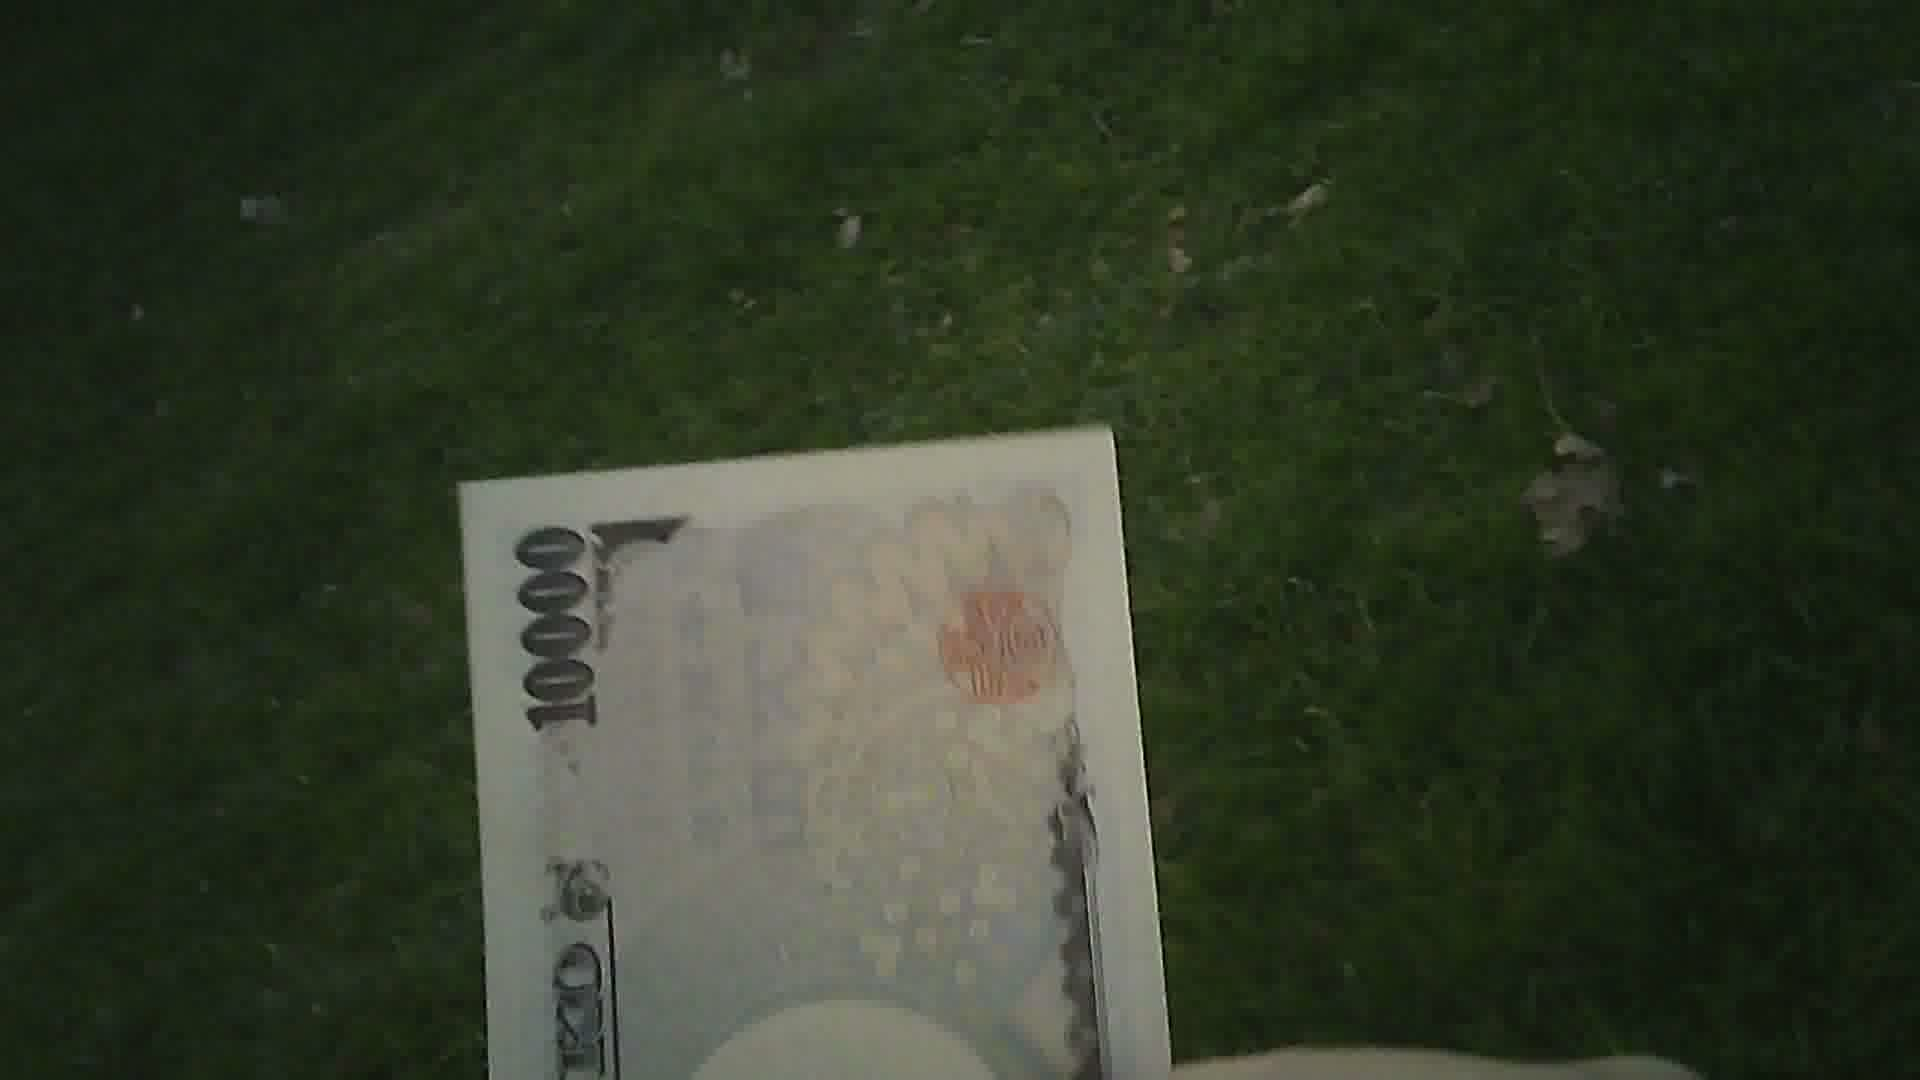10,000 Yen: (433, 440, 1168, 1079)
